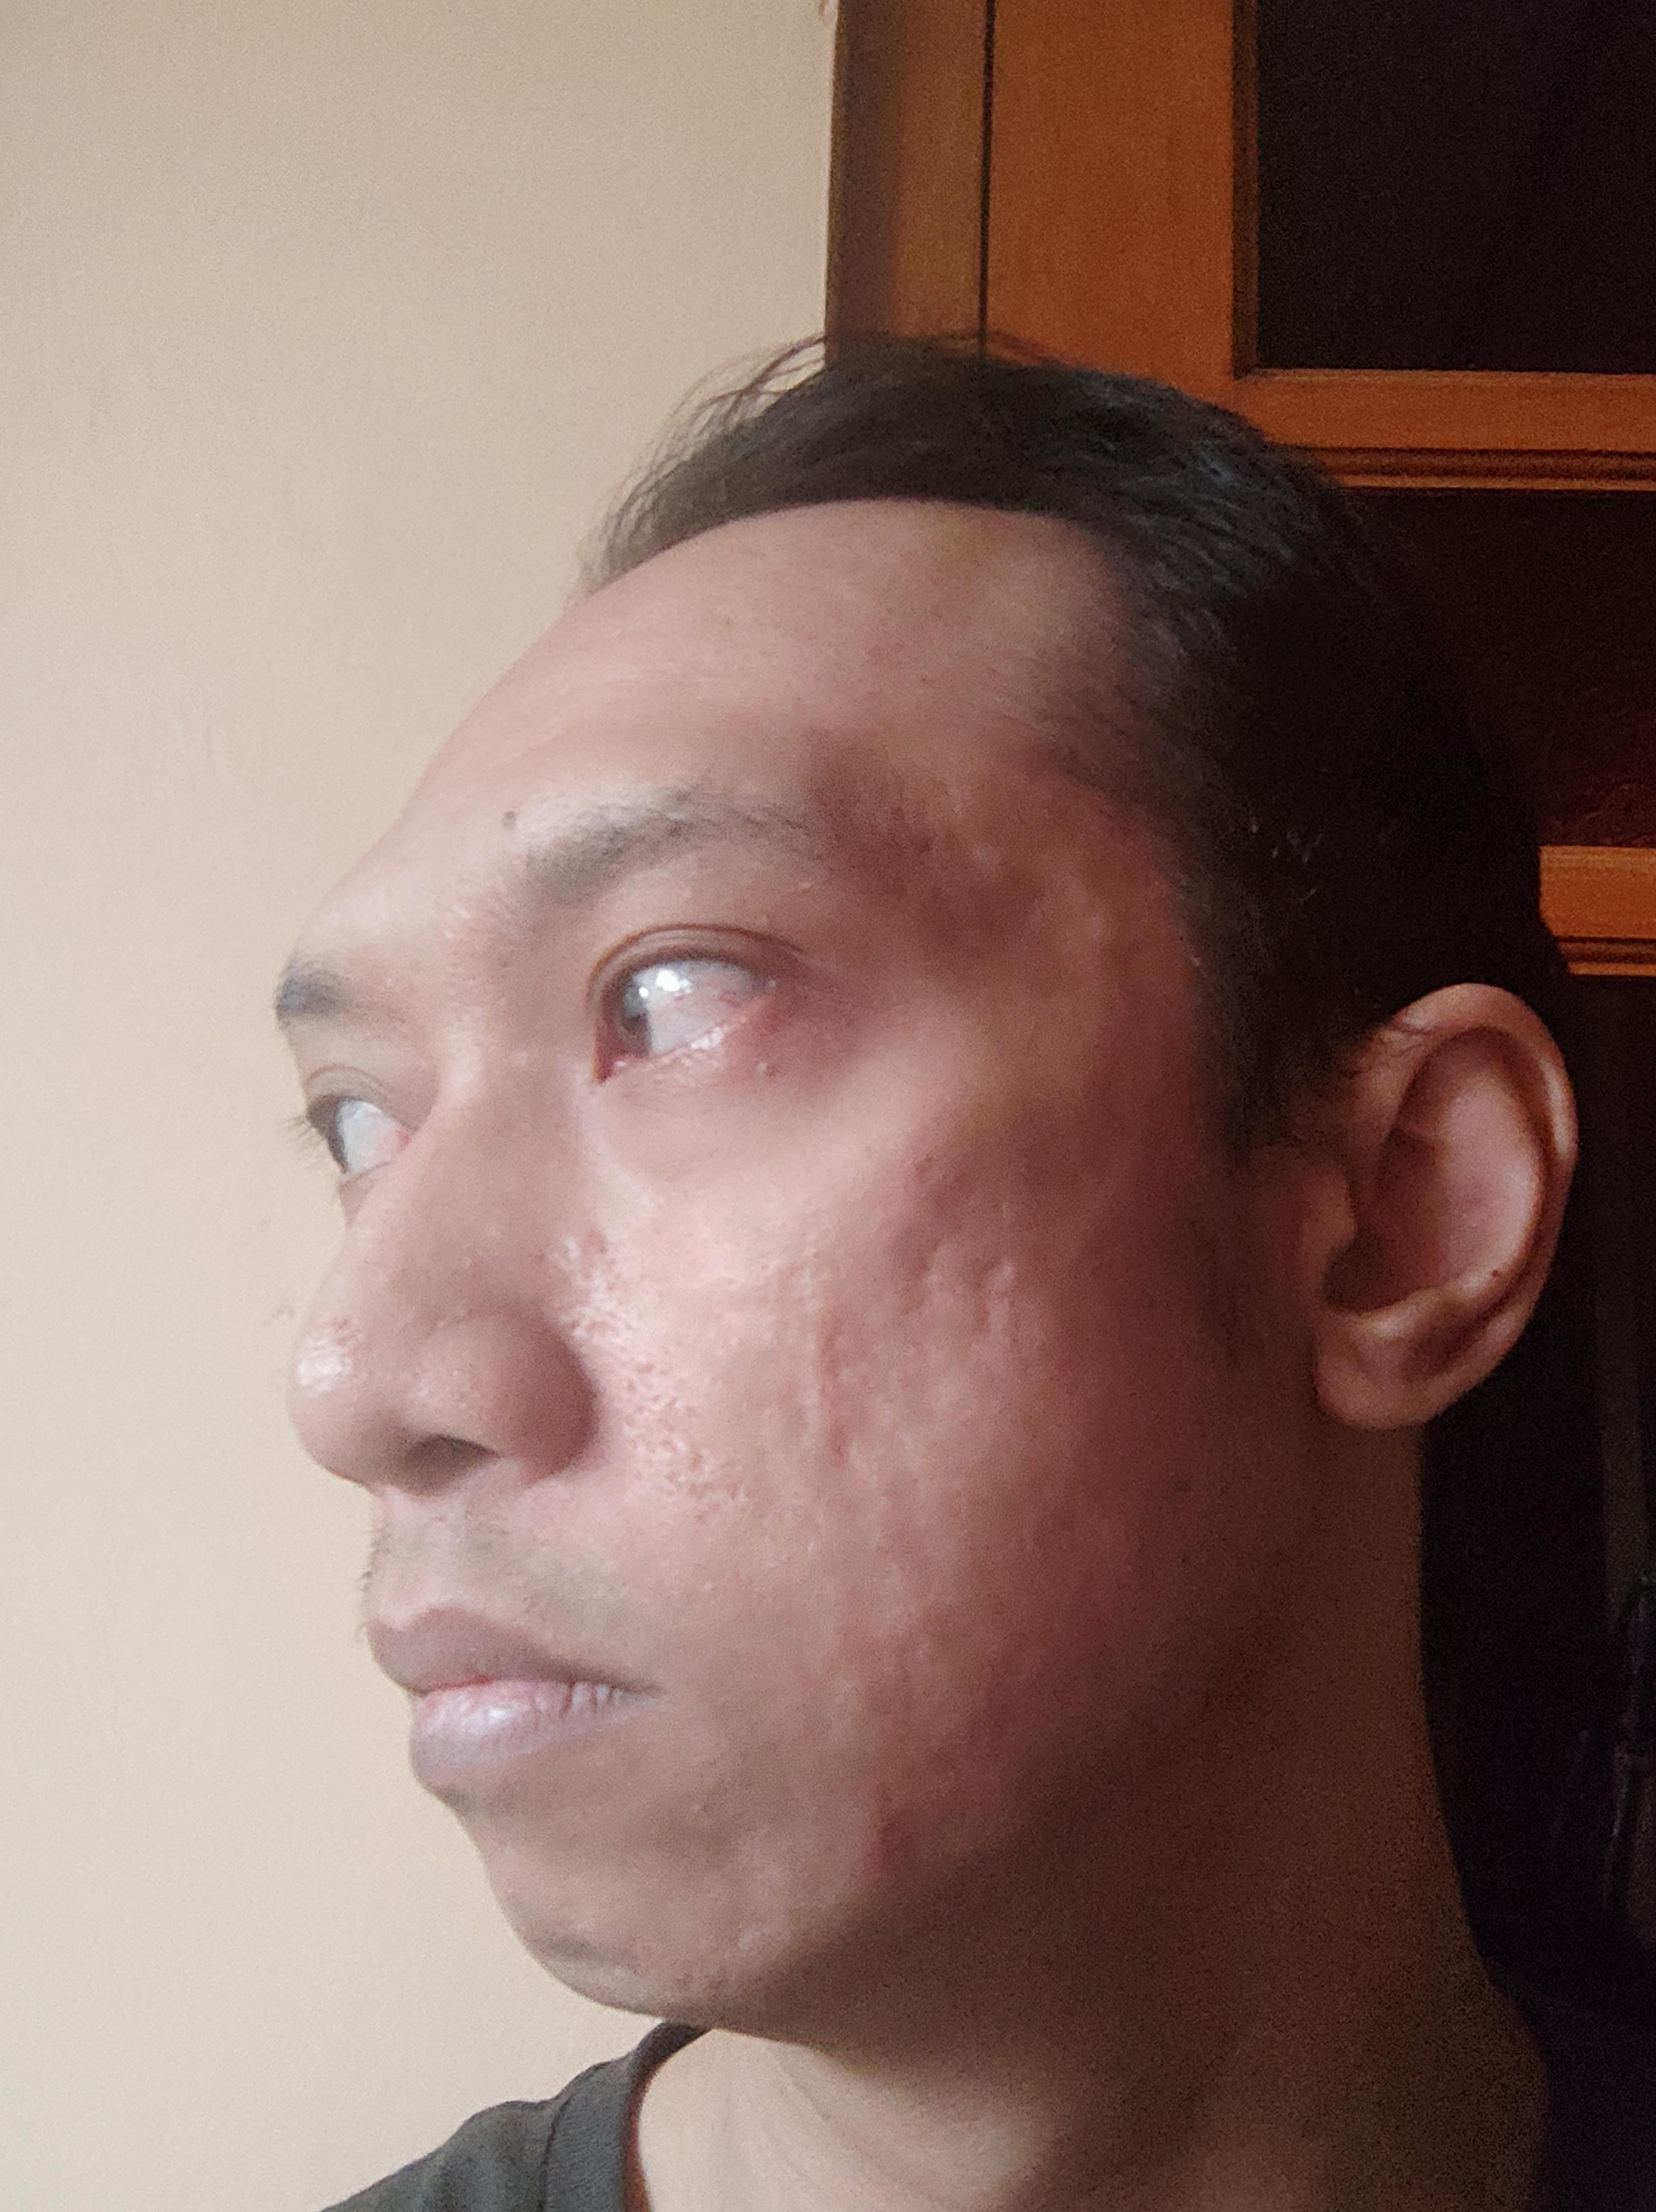Acne: (861, 1774, 927, 1850), (903, 814, 965, 873), (482, 796, 536, 835), (894, 659, 946, 692), (971, 664, 1018, 692)
Englarged-Pores: (558, 1252, 751, 1539), (315, 1306, 417, 1391)
